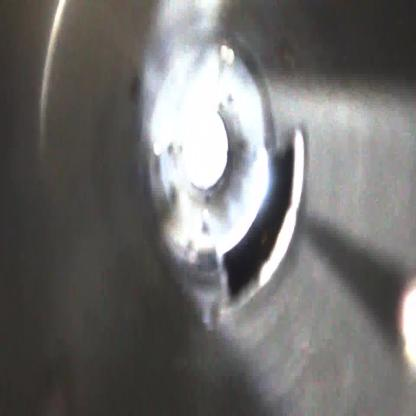Crack2: (223, 131, 305, 301)
